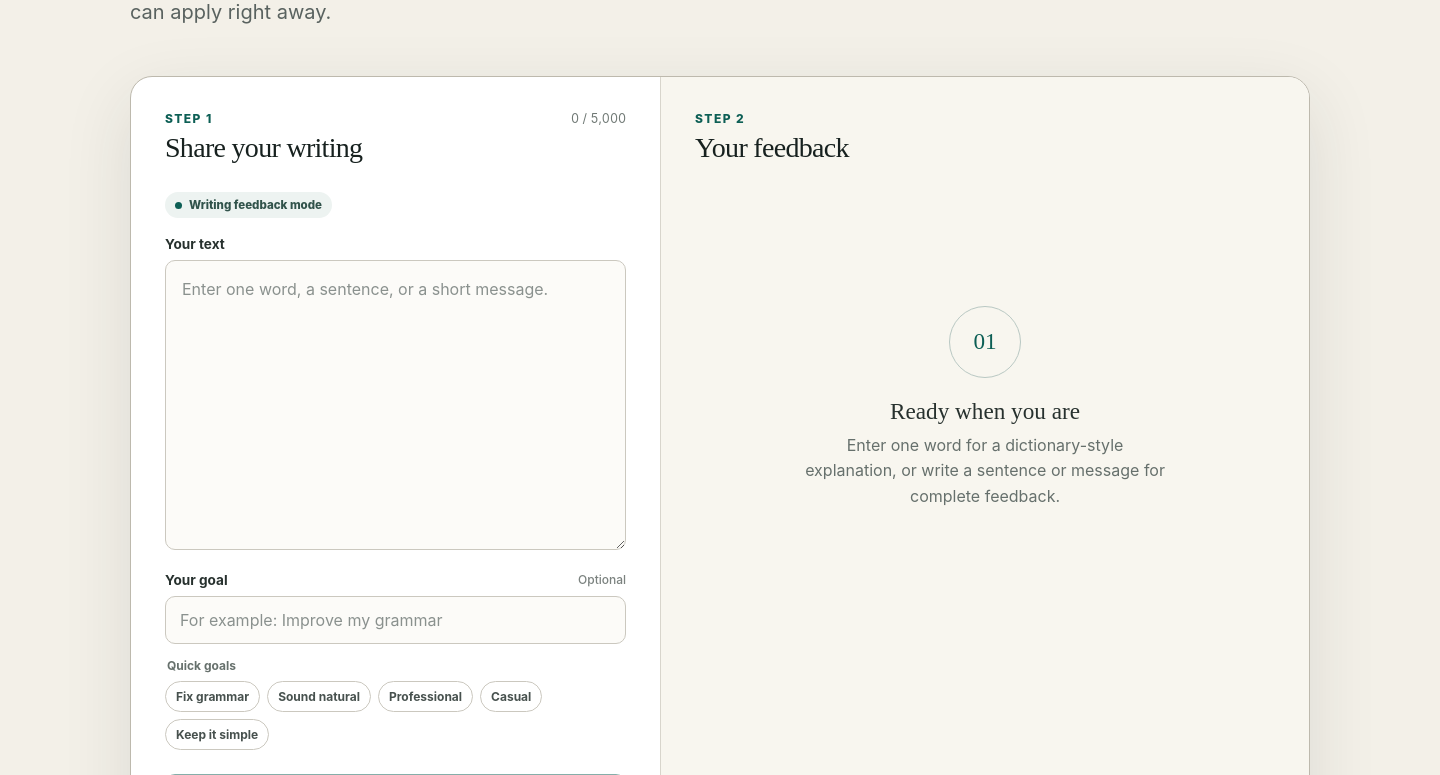
Scenario: Writing Coach interactions › clears stale feedback when a new request fails
This screenshot has width=1440, height=775.
(page scrolled)
Type "I go supermarket yesterday." into the text box labelled "Your text".
click(396, 405); type("I go supermarket yesterday.")  # box 165,260 -> 626,550
(page scrolled)
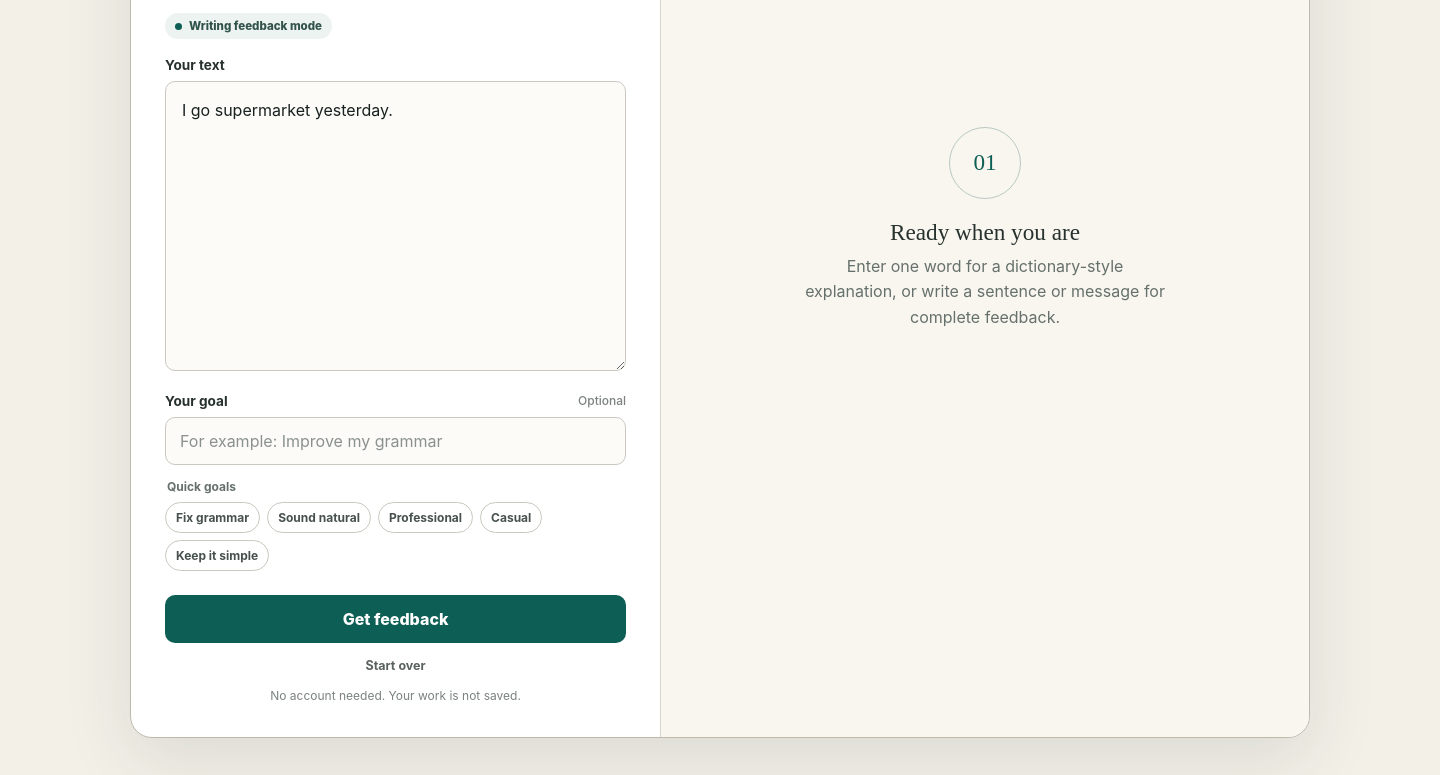
Click the button "Get feedback".
click(396, 619)  # box 165,595 -> 626,643
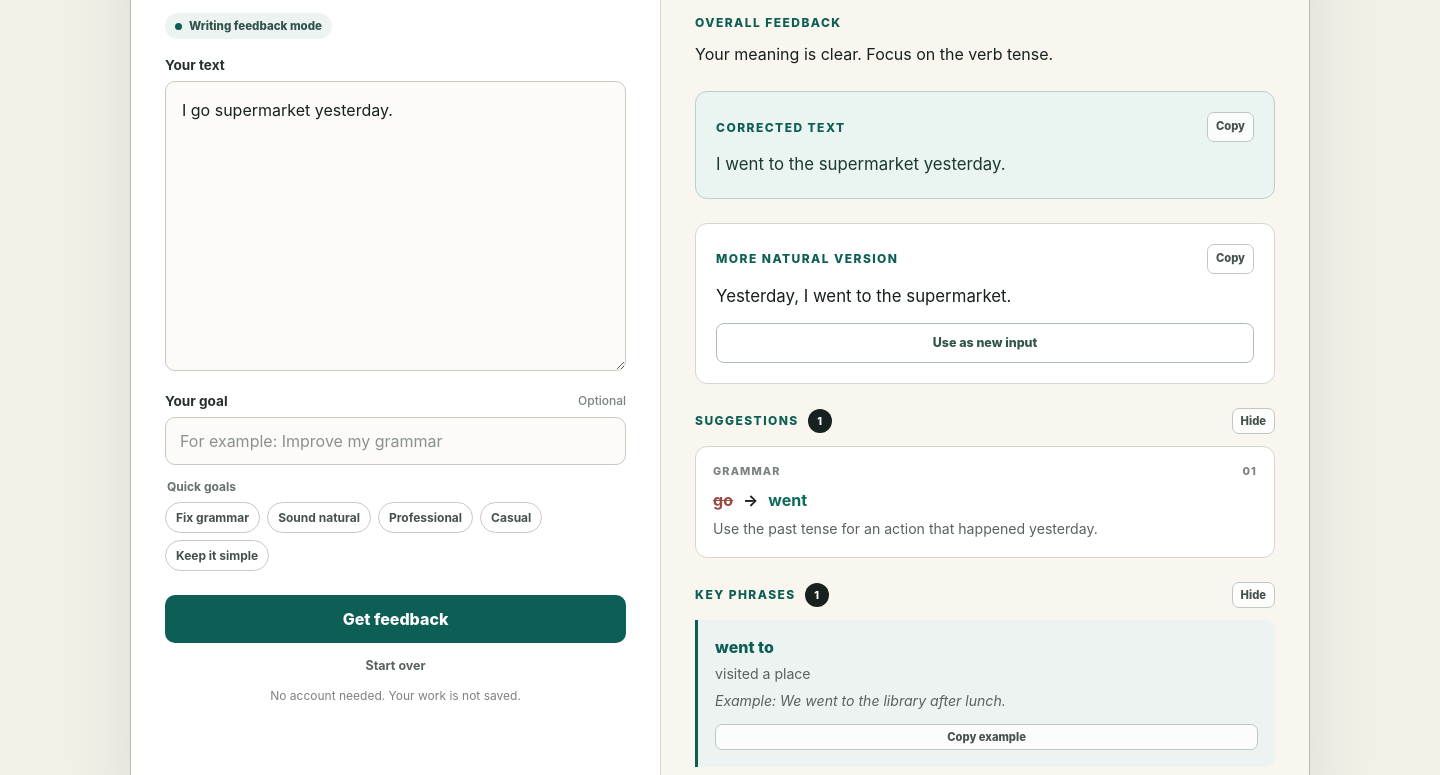
Expected: the text "I went to the supermarket yesterday." is shown, 716,154 -> 1006,174
Replace the text in the text box labelled "Your text" with "This request will fail." at (396,226), box 165,81 -> 626,371
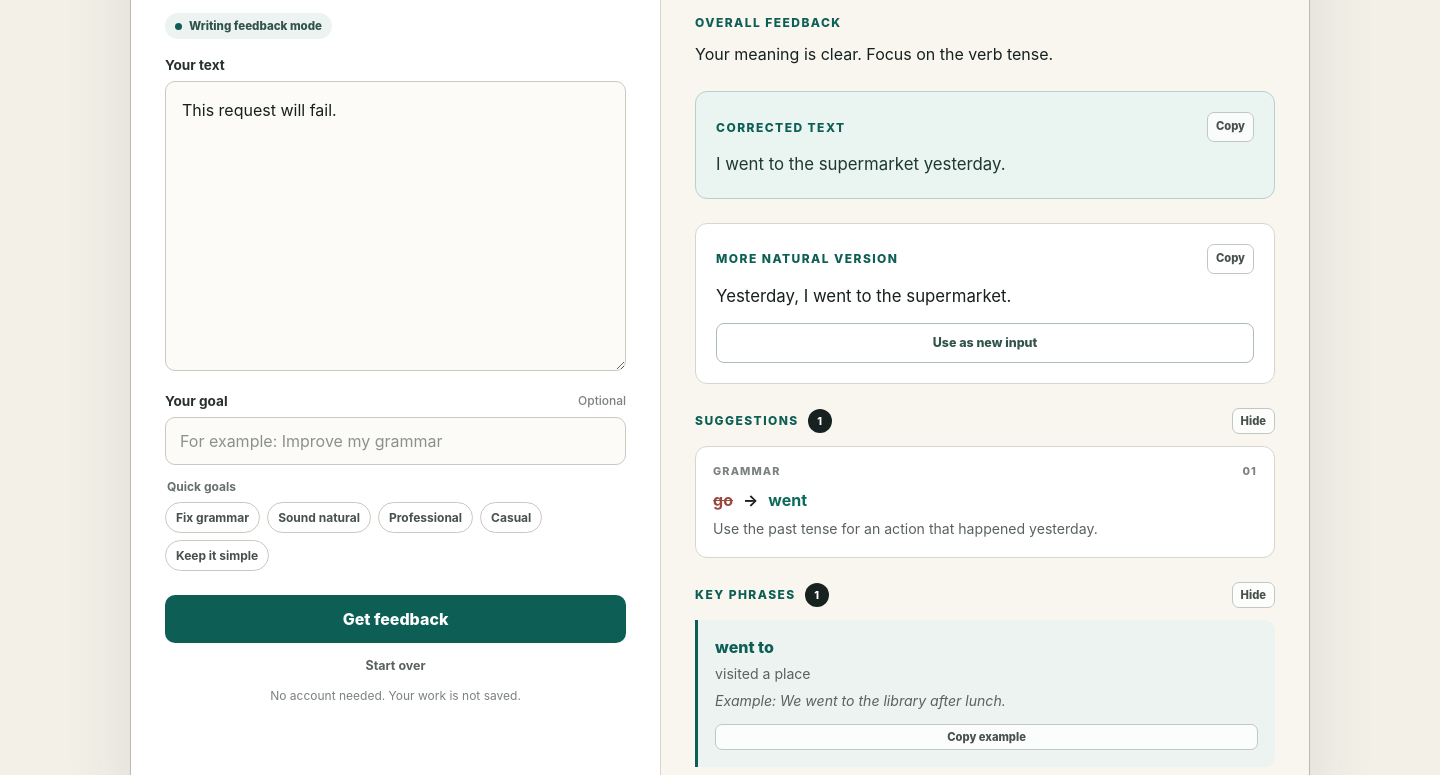
Click the button "Get feedback".
click(396, 619)  # box 165,595 -> 626,643
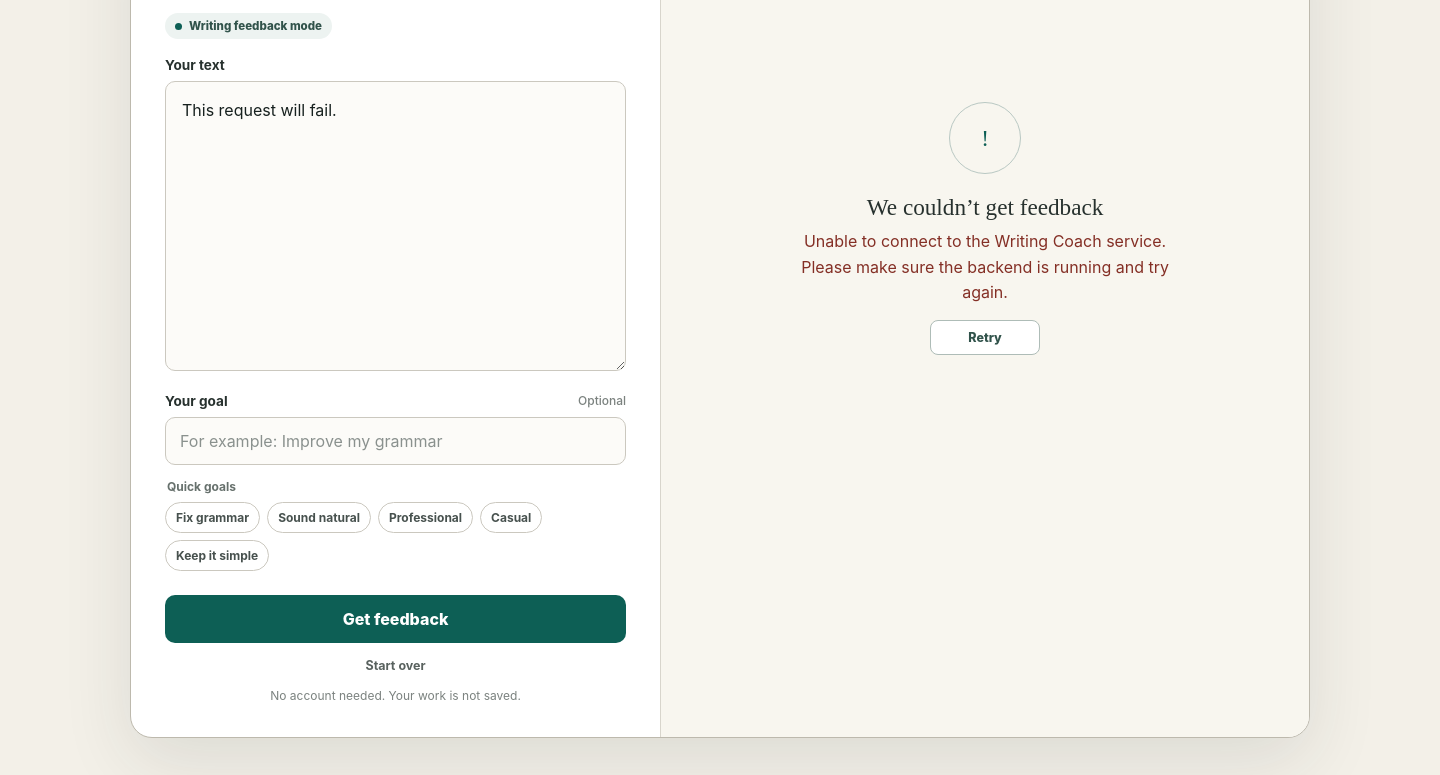
Expected: the text "Unable to connect to the Writing Coach service. Please make sure the backend is running and try again." is shown, 801,231 -> 1169,302
Expected: the text "I went to the supermarket yesterday." is gone
